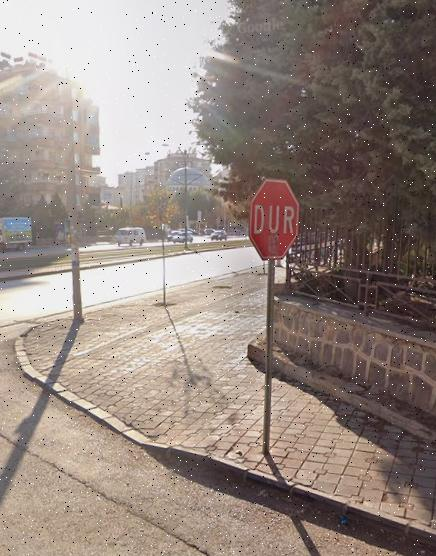stop: (250, 180, 302, 257)
